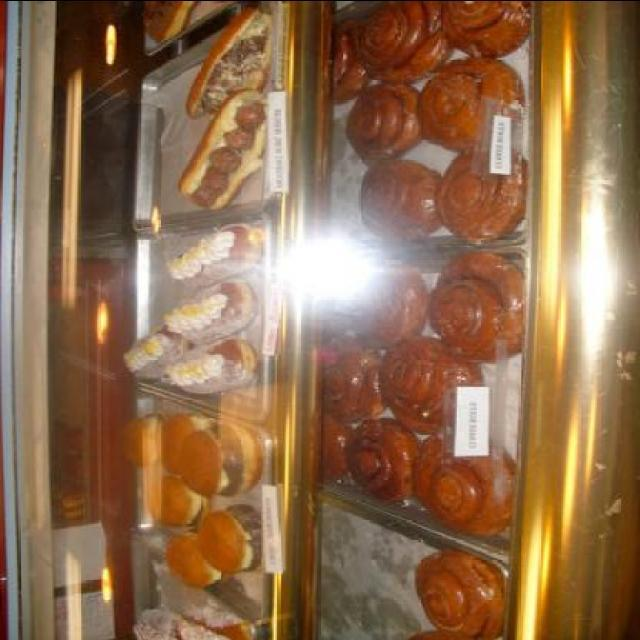Donuts: (303, 2, 572, 636)
